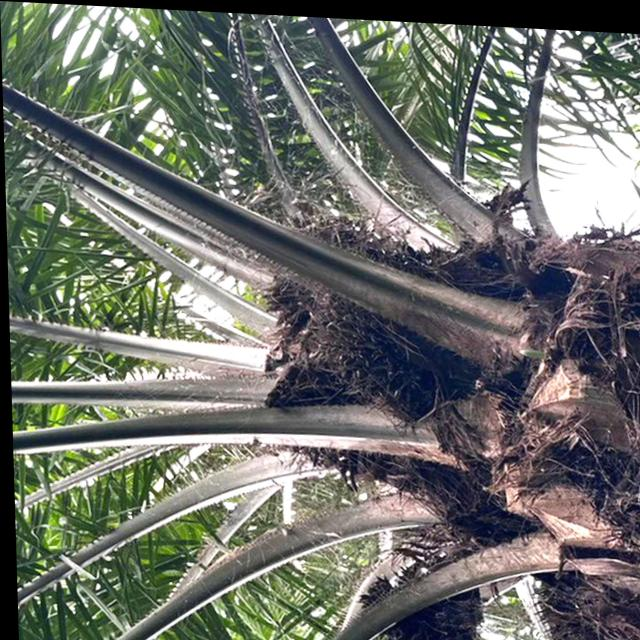unripe: (304, 222, 473, 428)
